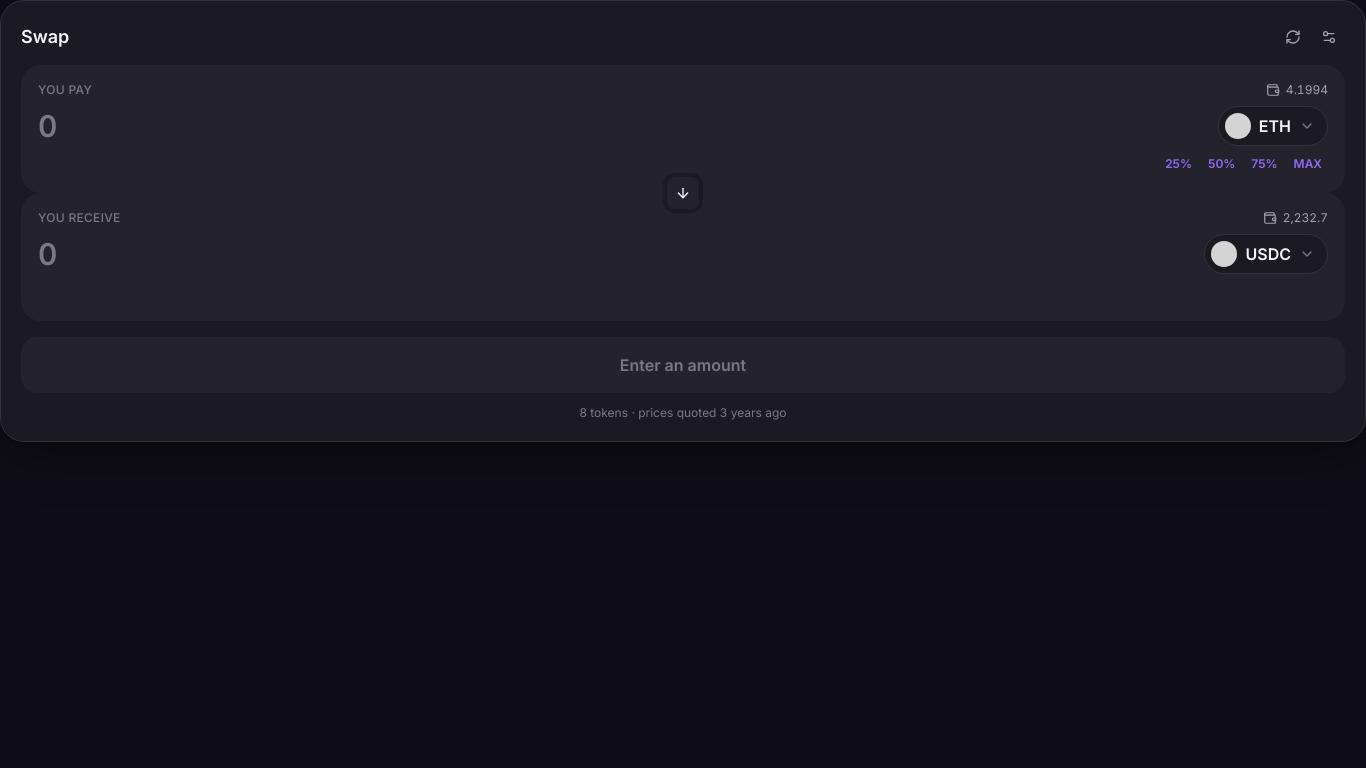
Scenario: the token picker › says so when nothing matches
The image size is (1366, 768).
Click the button with aria-label "change token, currently eth".
click(1273, 126)  # box [1218, 106, 1328, 146]
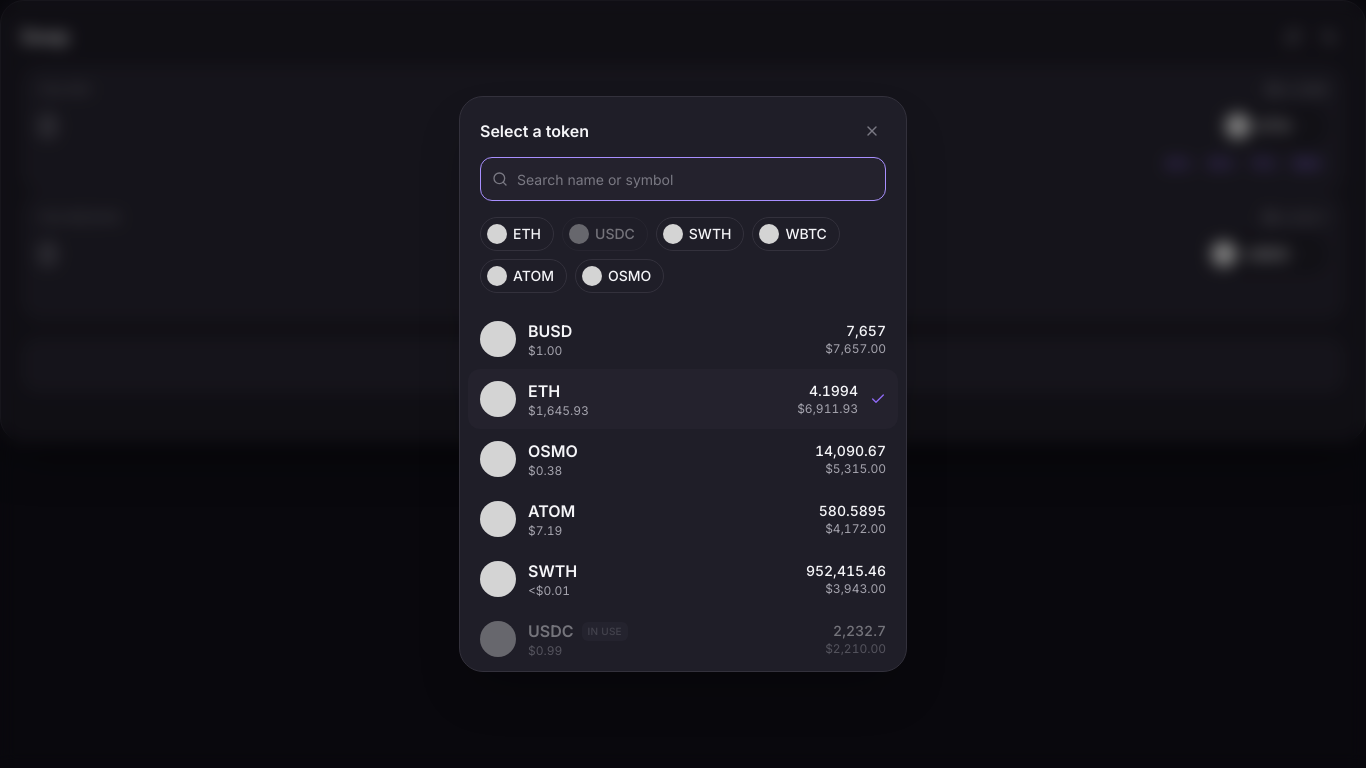
Type "zzzz" into the field named "search tokens".
click(683, 179); type("zzzz")  # box [480, 157, 886, 201]
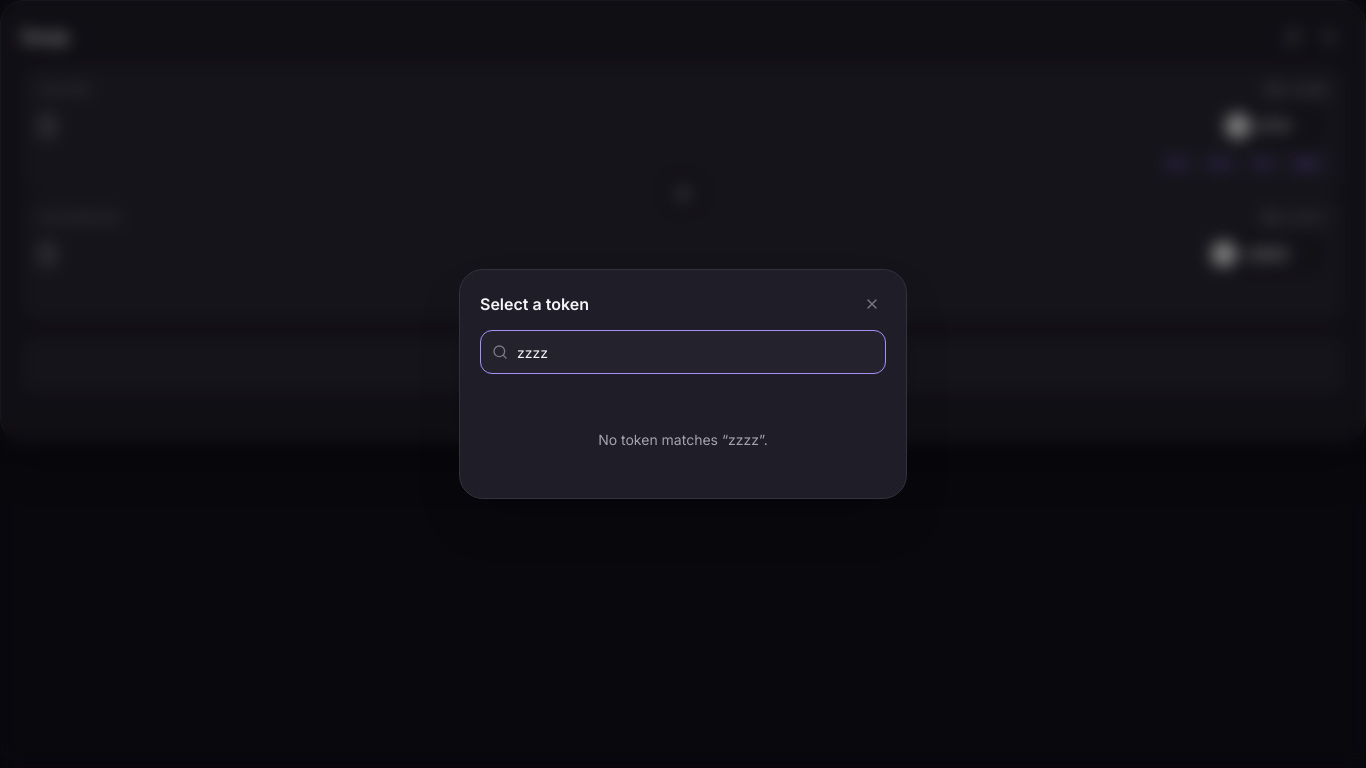
Now the text "No token matches “zzzz”." is shown, box [598, 431, 768, 448]
